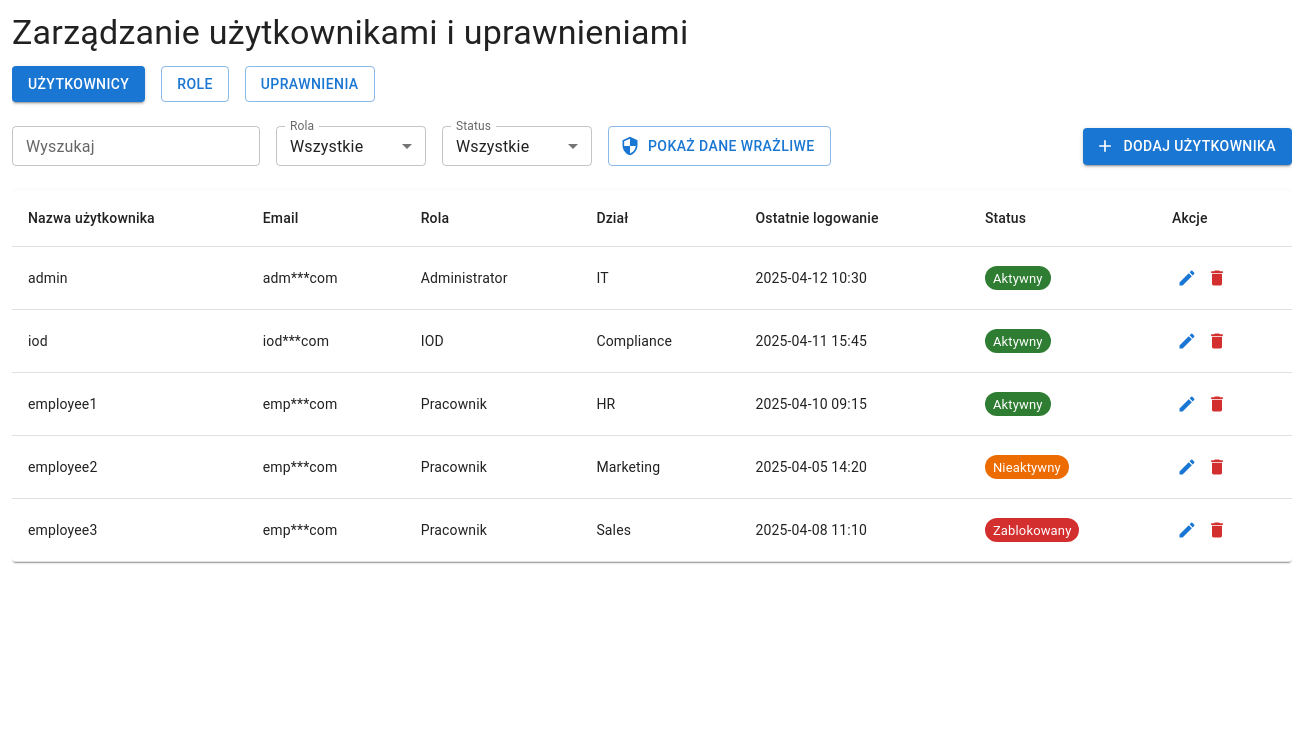
it: UserManagementPage Component › switches to permissions tab
This screenshot has width=1304, height=732.
Note: Kliknięcie zakładki "Uprawnienia"
Step 1. Click the button "Uprawnienia" → point(310, 84), box 245,66 -> 375,102
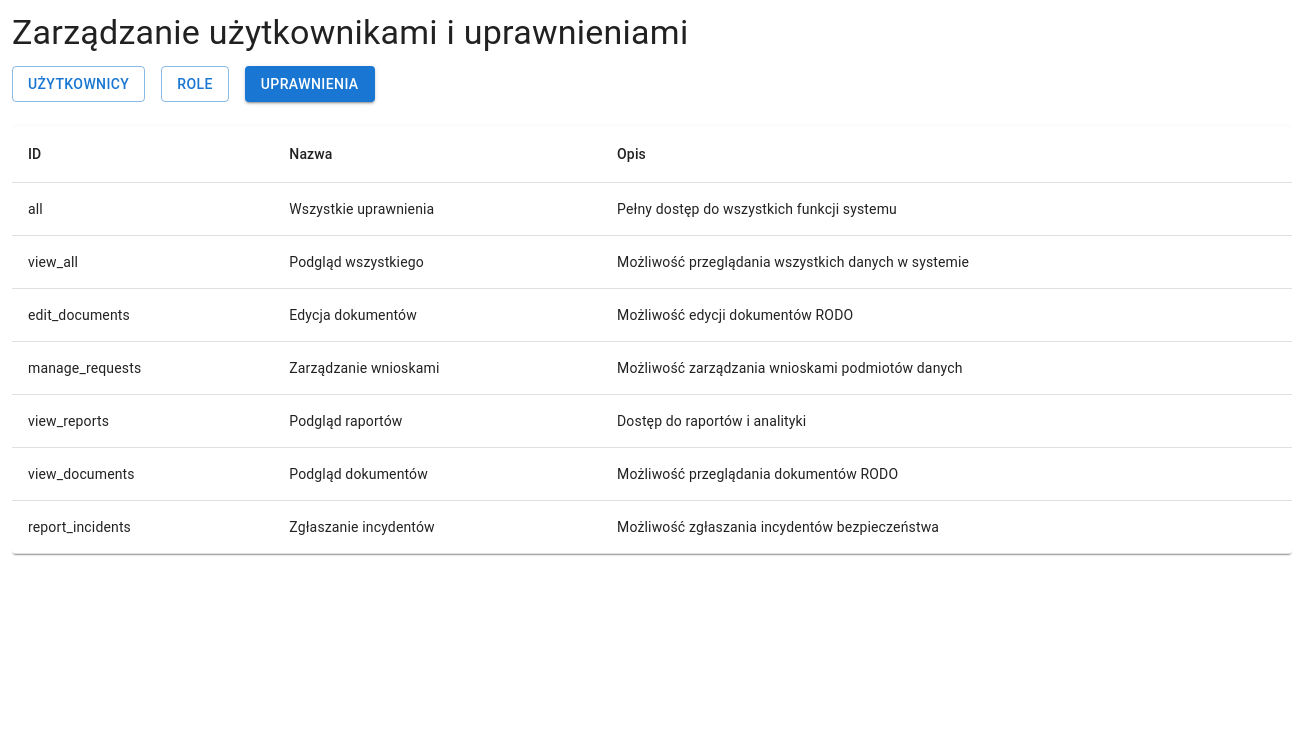
Check: the column heading "ID" is shown, box 12,126 -> 273,183
Check: the column heading "Opis" is shown, box 601,126 -> 1292,183
Check: the text "Wszystkie uprawnienia" is shown, box 273,183 -> 601,236
